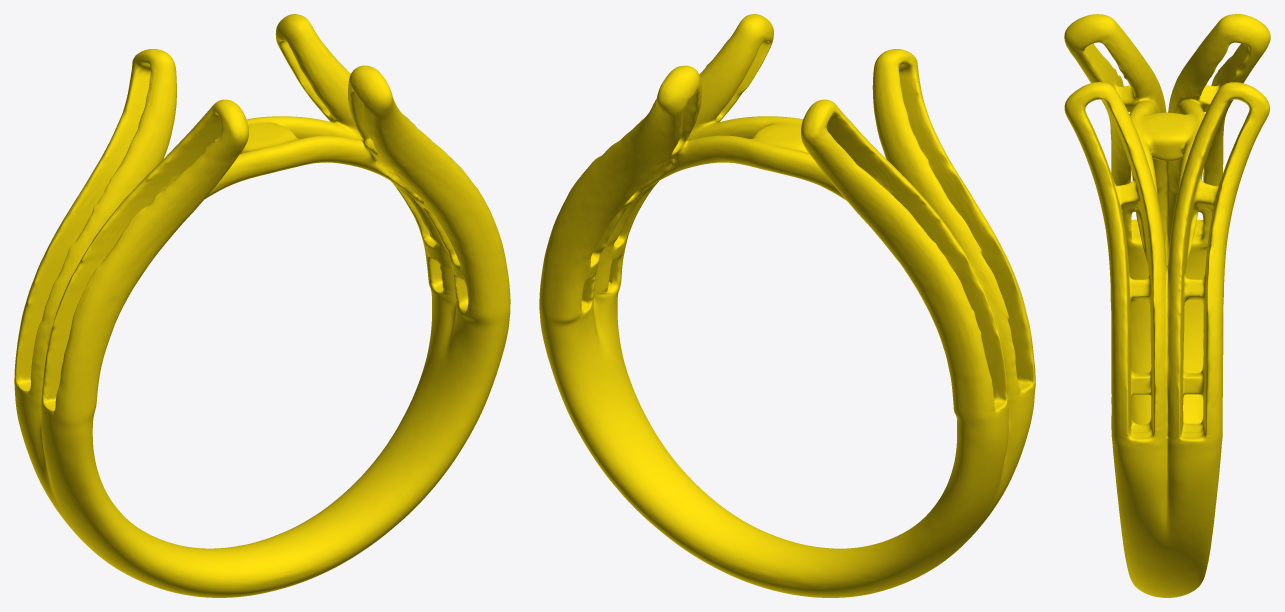
Rendered from Shank_Two row split_Channel_B_Single Halo_Band.glb.
3 views of the same model, side by side, from view 1: azimuth 30°, elevation 25°; view 2: azimuth 150°, elevation 25°; view 3: azimuth 270°, elevation 25° (orthographic).
Bounding box in the file's own units: 0.0213 × 0.0234 × 0.00837.
